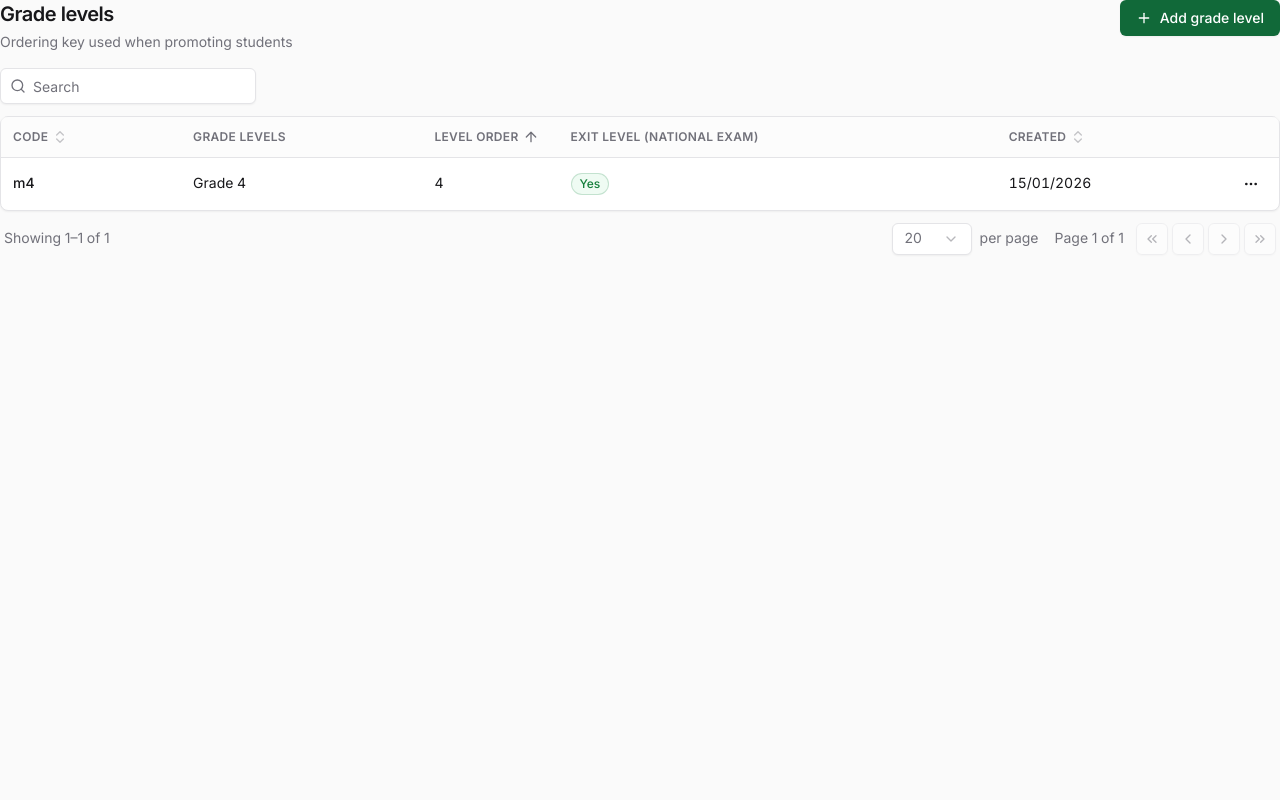
it: GradeLevelsPage › will not offer to change the code of an existing level
Click the button named "actions". click: [1251, 184]
box: [1235,168,1267,200]
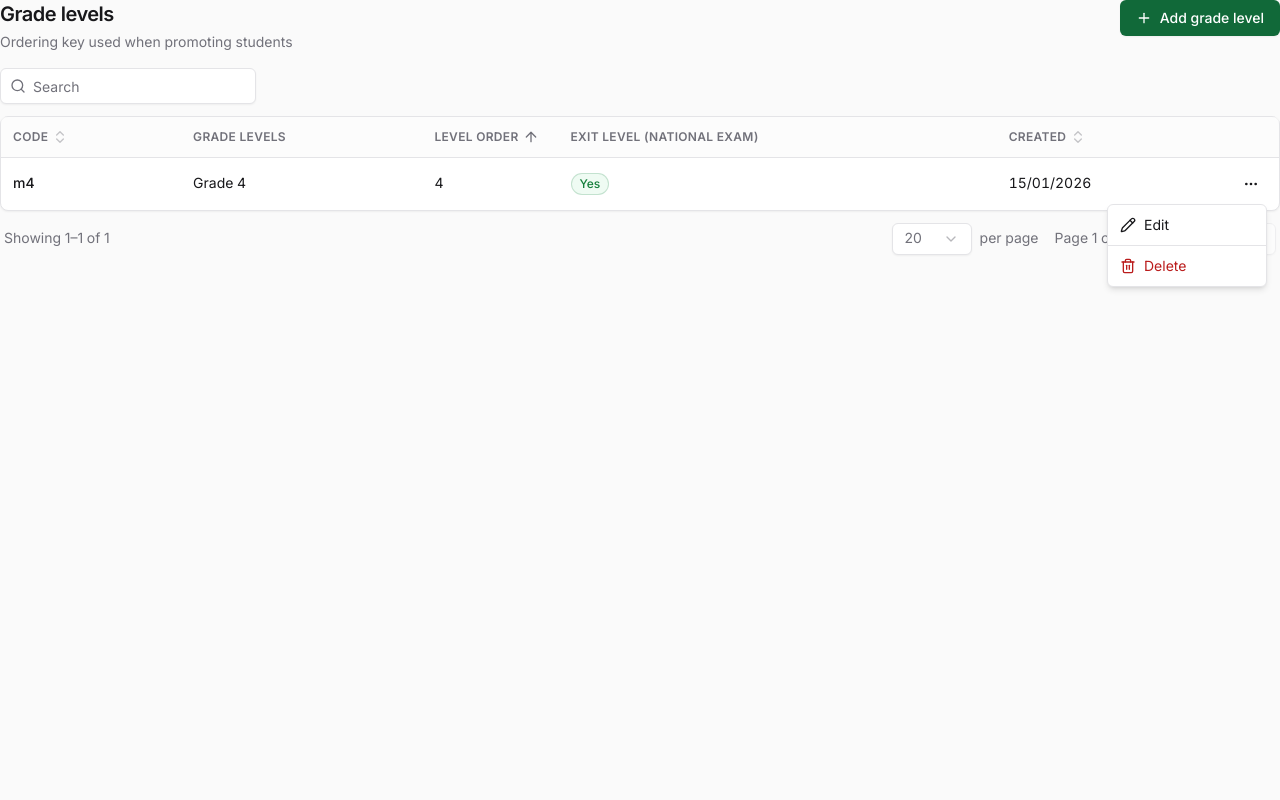
Click the menu item "Edit". click: [1144, 224]
box: [1120,213,1169,236]
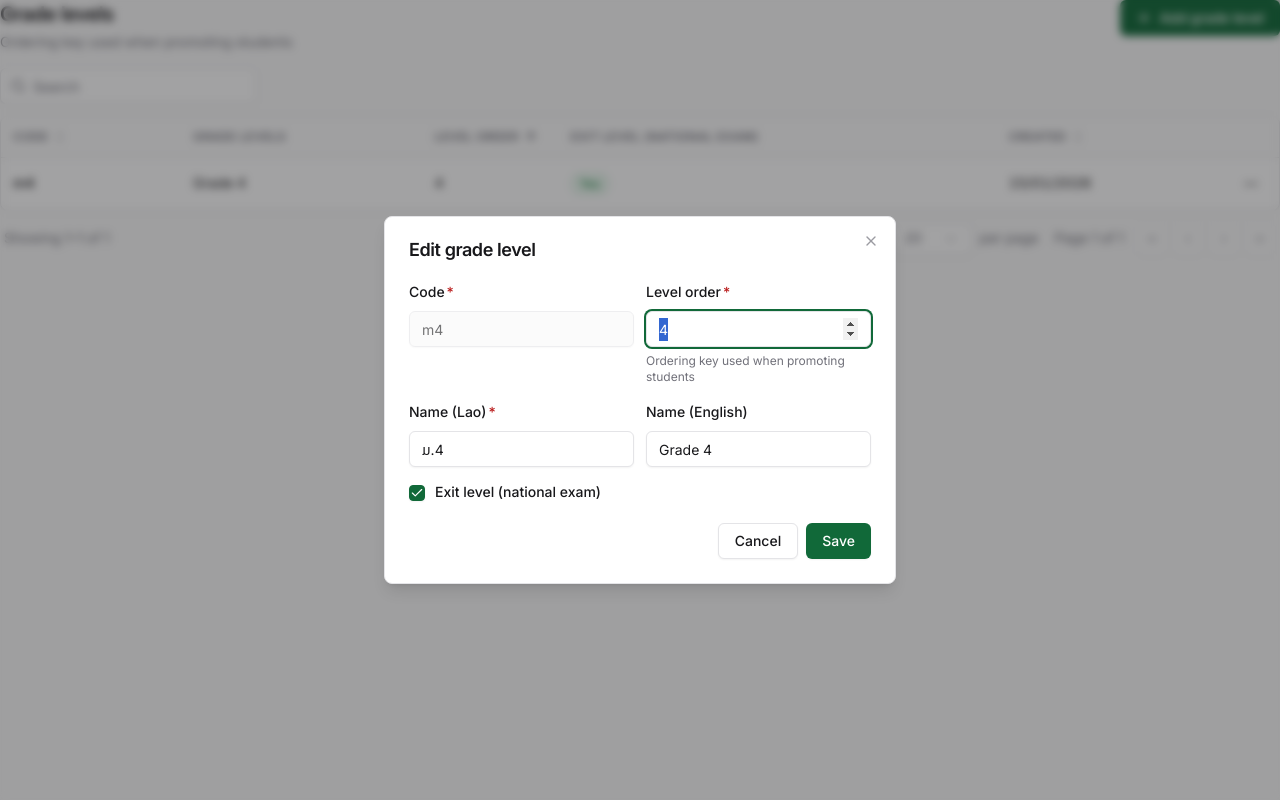
expect the field labelled "Code*" is disabled: met, box [409,311,634,347]
